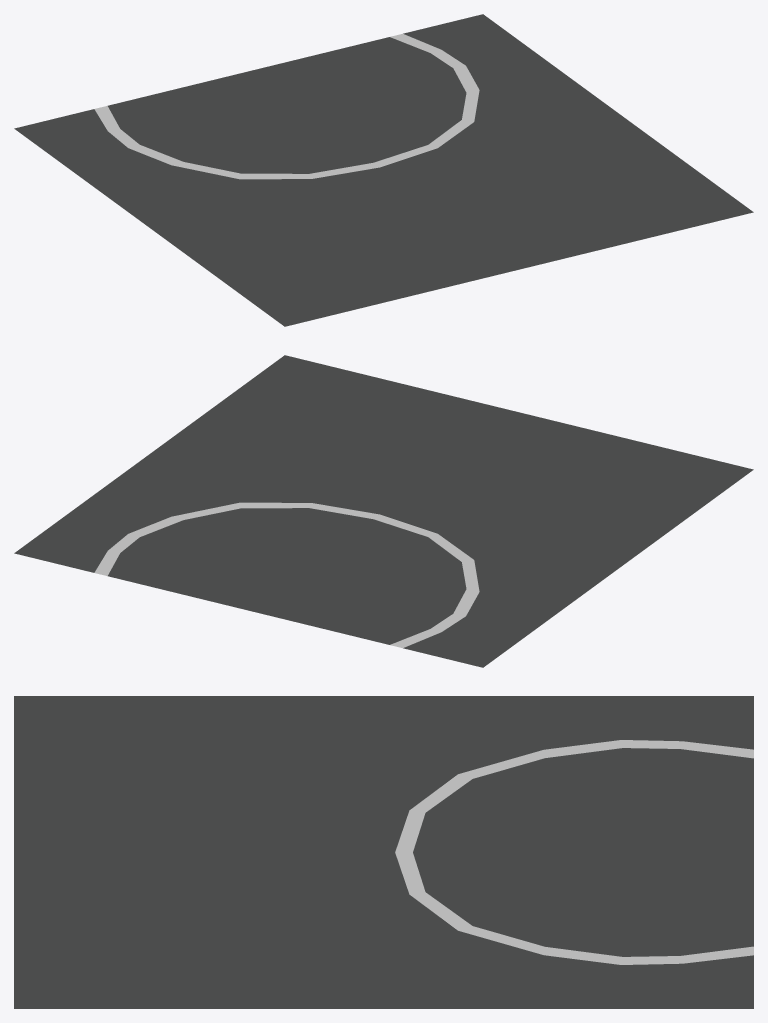
File: smallStreet_11.fbx
3 views of the same model, one above another, from view 1: azimuth 30°, elevation 25°; view 2: azimuth 150°, elevation 25°; view 3: azimuth 270°, elevation 25° (orthographic). The views are drawn at different scales.
Parts seen in each view (by area): view 1: smallStreet_11; view 2: smallStreet_11; view 3: smallStreet_11.
Boxes of the visible parts, x1,y1,x2,y2 form: smallStreet_11: (14, 14, 753, 326); smallStreet_11: (14, 355, 753, 667); smallStreet_11: (14, 696, 753, 1008).
Bounding box in the file's own units: 375 × 0 × 375.
